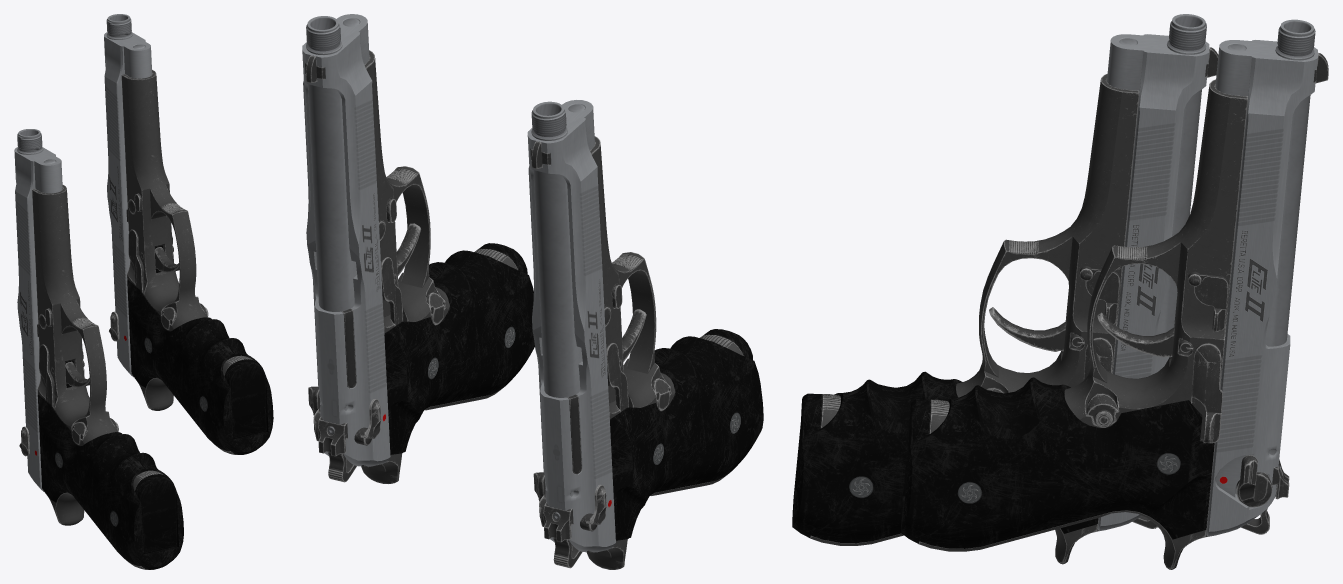
Rendered from dual_berettas.glb.
The picture shows the model from 3 angles, left to right: view 1: azimuth 30°, elevation 25°; view 2: azimuth 150°, elevation 25°; view 3: azimuth 270°, elevation 25°; orthographic projection. The views are drawn at different scales.
Visible parts, largest first — view 1: LP *Standart* Frame_Material #46_0.001, LP *Standart* Frame_Material #46_0, LP *Burton* V2 Right Grip001_Material #142_0.001, LP *Burton* V2 Right Grip001_Material #142_0, LP *Brig-FusionBlack-Elite-Samurai* Slide_Material #145_0.00, LP *Brig-FusionBlack-Elite-Samurai* Slide_Material #145_0, LP Magazine Stock Pad004_Material #143_0.001, LP Magazine Stock Pad004_Material #143_0, LP *Burton* V2 Left Grip001_Material #142_0, LP *Burton* V2 Left Grip001_Material #142_0.001, LP *Threaded* Barrel_Material #48_0.001, LP *Threaded* Barrel_Material #48_0 (+4 smaller); view 2: LP *Brig-FusionBlack-Elite-Samurai* Slide_Material #145_0.00, LP *Brig-FusionBlack-Elite-Samurai* Slide_Material #145_0, LP *Burton* V2 Right Grip001_Material #142_0.001, LP *Burton* V2 Right Grip001_Material #142_0, LP *Threaded* Barrel_Material #48_0.001, LP *Threaded* Barrel_Material #48_0, LP *Standart* Frame_Material #46_0.001, LP *Standart* Frame_Material #46_0, LP Parts Trigger Bar002_Material #140_0.001, LP Parts Trigger Bar002_Material #140_0, LP Parts Tail Sight Stock002_Material #140_0.001, LP Parts Tail Sight Stock002_Material #140_0 (+6 smaller); view 3: LP *Burton* V2 Left Grip001_Material #142_0, LP *Brig-FusionBlack-Elite-Samurai* Slide_Material #145_0, LP *Standart* Frame_Material #46_0, LP *Standart* Frame_Material #46_0.001, LP *Brig-FusionBlack-Elite-Samurai* Slide_Material #145_0.00, LP *Burton* V2 Left Grip001_Material #142_0.001, LP *Threaded* Barrel_Material #48_0, LP *Threaded* Barrel_Material #48_0.001, LP Parts Slide Stop002_Material #140_0, LP Parts Slide Left Safety002_Material #140_0, LP Parts Trigger002_Material #140_0.001, LP Parts Trigger002_Material #140_0 (+8 smaller).
Boxes of the visible parts, <box> form: LP *Standart* Frame_Material #46_0.001: <box>32,185,164,569</box>; LP *Standart* Frame_Material #46_0: <box>121,69,253,454</box>; LP *Burton* V2 Right Grip001_Material #142_0.001: <box>37,395,161,569</box>; LP *Burton* V2 Right Grip001_Material #142_0: <box>127,280,251,454</box>; LP *Brig-FusionBlack-Elite-Samurai* Slide_Material #145_0.00: <box>14,147,62,492</box>; LP *Brig-FusionBlack-Elite-Samurai* Slide_Material #145_0: <box>104,32,152,377</box>; LP Magazine Stock Pad004_Material #143_0.001: <box>135,474,177,553</box>; LP Magazine Stock Pad004_Material #143_0: <box>224,359,266,439</box>; LP *Burton* V2 Left Grip001_Material #142_0: <box>198,317,273,453</box>; LP *Burton* V2 Left Grip001_Material #142_0.001: <box>109,432,183,568</box>; LP *Threaded* Barrel_Material #48_0.001: <box>17,129,43,154</box>; LP *Threaded* Barrel_Material #48_0: <box>106,14,132,39</box>; LP *Brig-FusionBlack-Elite-Samurai* Slide_Material #145_0.00: <box>527,100,615,552</box>; LP *Brig-FusionBlack-Elite-Samurai* Slide_Material #145_0: <box>302,14,390,466</box>; LP *Burton* V2 Right Grip001_Material #142_0.001: <box>610,338,763,540</box>; LP *Burton* V2 Right Grip001_Material #142_0: <box>384,252,534,454</box>; LP *Threaded* Barrel_Material #48_0.001: <box>531,101,582,397</box>; LP *Threaded* Barrel_Material #48_0: <box>306,16,357,311</box>; LP *Standart* Frame_Material #46_0.001: <box>586,136,743,569</box>; LP *Standart* Frame_Material #46_0: <box>361,50,517,483</box>; LP Parts Trigger Bar002_Material #140_0.001: <box>606,342,628,412</box>; LP Parts Trigger Bar002_Material #140_0: <box>381,256,402,326</box>; LP Parts Tail Sight Stock002_Material #140_0.001: <box>543,502,573,542</box>; LP Parts Tail Sight Stock002_Material #140_0: <box>318,417,347,456</box>; LP *Burton* V2 Left Grip001_Material #142_0: <box>901,382,1214,548</box>; LP *Brig-FusionBlack-Elite-Samurai* Slide_Material #145_0: <box>1206,40,1317,536</box>; LP *Standart* Frame_Material #46_0: <box>918,79,1247,569</box>; LP *Standart* Frame_Material #46_0.001: <box>810,73,1139,564</box>; LP *Brig-FusionBlack-Elite-Samurai* Slide_Material #145_0.00: <box>1097,34,1209,530</box>; LP *Burton* V2 Left Grip001_Material #142_0.001: <box>792,376,1098,543</box>; LP *Threaded* Barrel_Material #48_0: <box>1265,19,1315,346</box>; LP *Threaded* Barrel_Material #48_0.001: <box>1157,14,1206,334</box>; LP Parts Slide Stop002_Material #140_0: <box>1191,342,1222,443</box>; LP Parts Slide Left Safety002_Material #140_0: <box>1236,455,1272,507</box>; LP Parts Trigger002_Material #140_0.001: <box>989,307,1066,351</box>; LP Parts Trigger002_Material #140_0: <box>1097,312,1174,357</box>.
Bounding box in the file's own units: 0.1135 × 0.255 × 0.1977.
6 materials, 6 textured.
